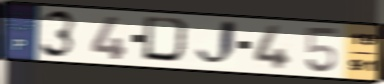3: (36, 9, 84, 60)
4: (252, 23, 293, 72), (88, 13, 129, 62)
5: (304, 26, 339, 74)
D: (140, 15, 195, 66)
J: (194, 18, 240, 69)
